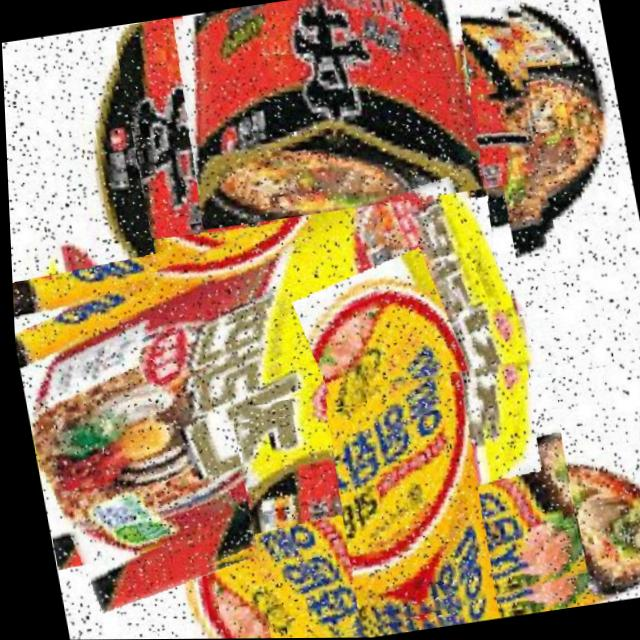Miscellaneous: (6, 185, 562, 595), (111, 0, 571, 368), (227, 376, 588, 638)
